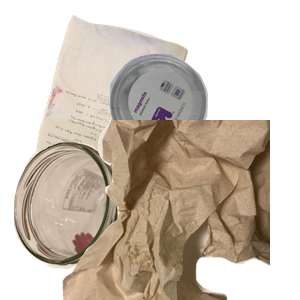glass: (11, 139, 179, 300)
paper: (33, 12, 214, 192)
plastic: (107, 51, 300, 199)
trash: (60, 120, 300, 300)
